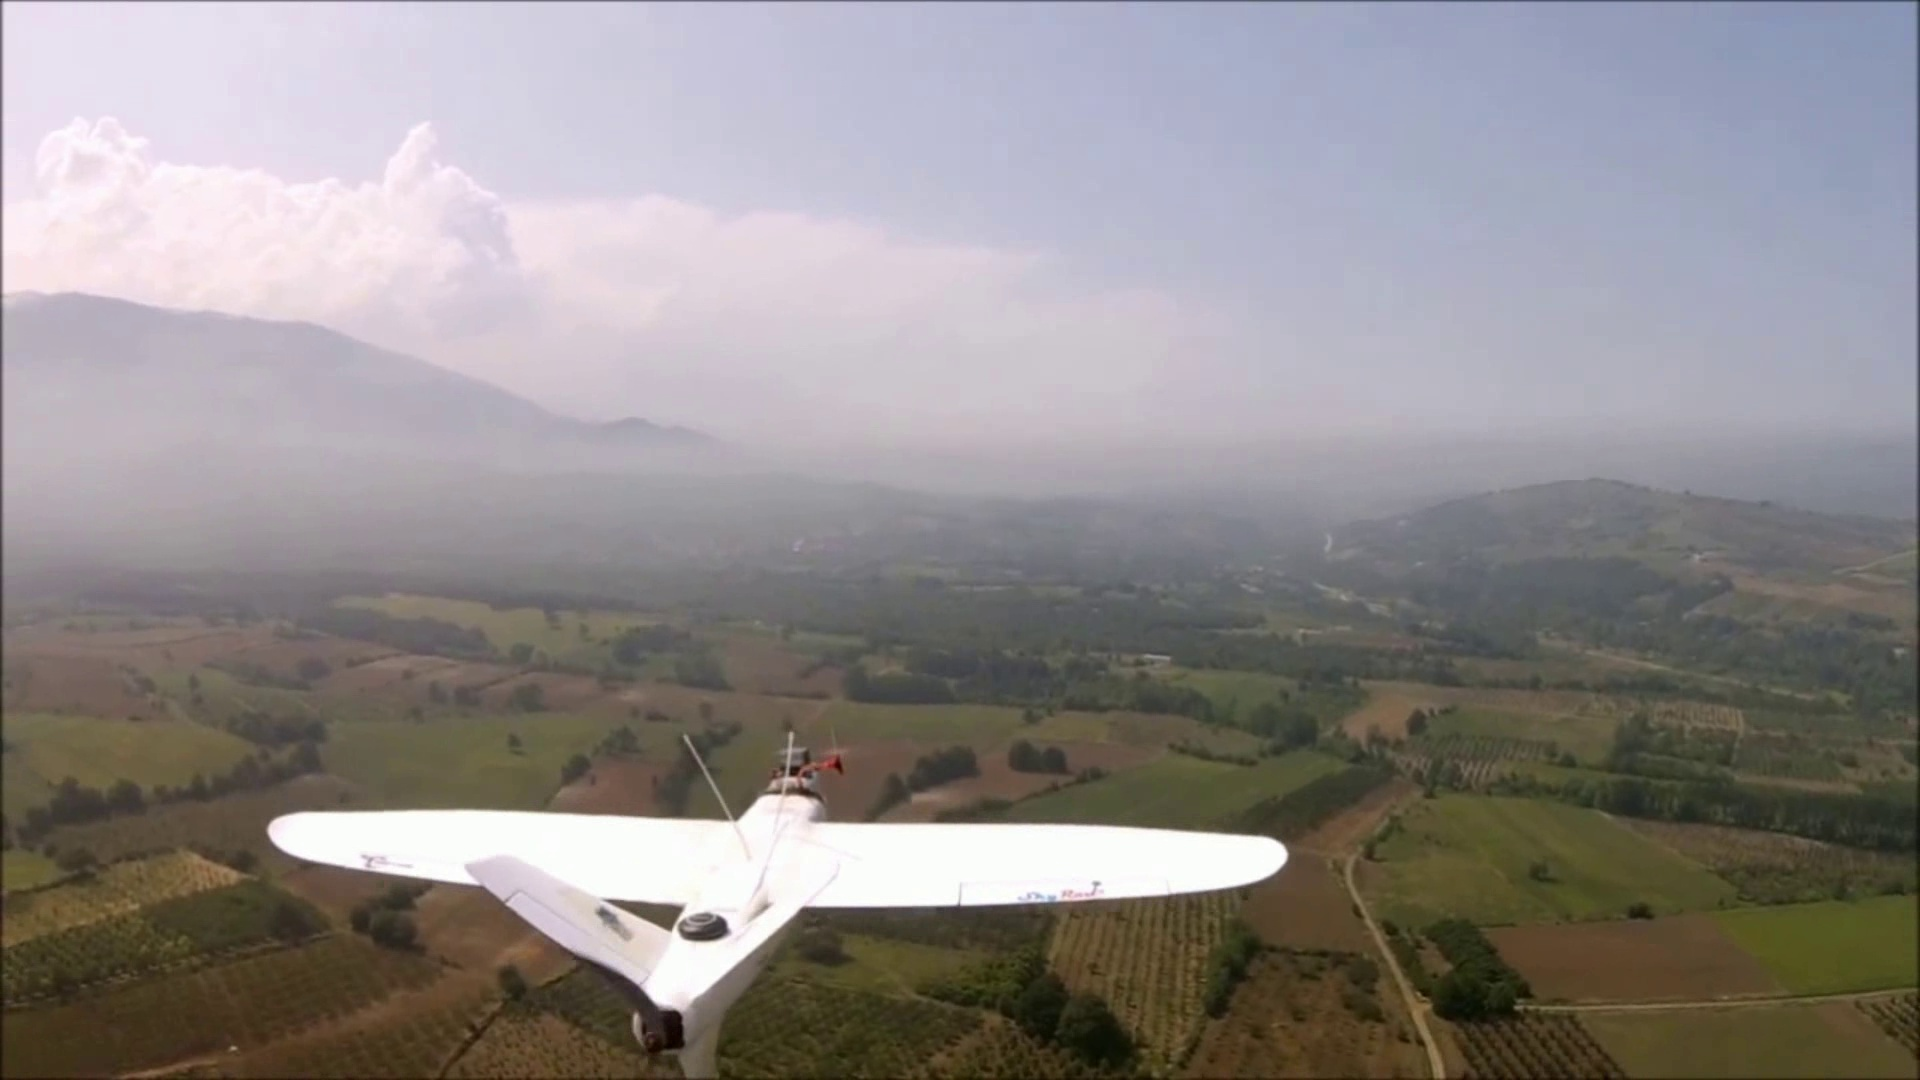airplane: (264, 804, 1288, 1072)
